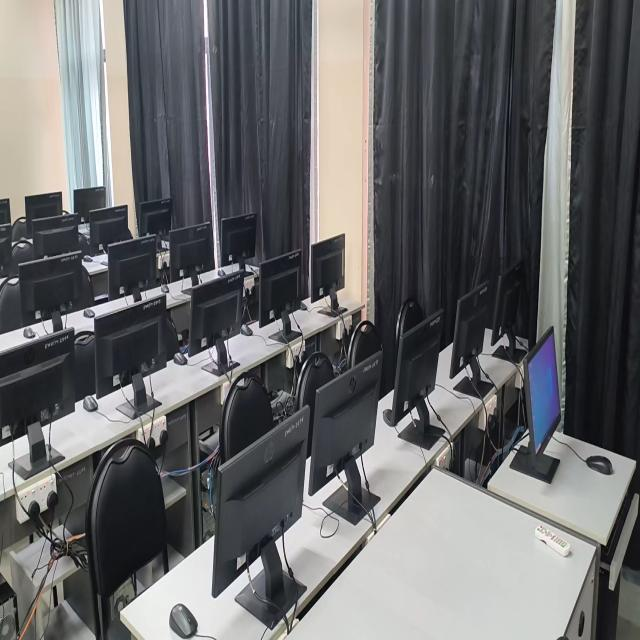Chair: (89, 436, 165, 605), (217, 358, 283, 448), (294, 346, 332, 396), (348, 316, 379, 362), (0, 271, 23, 332), (75, 330, 96, 391), (397, 289, 425, 332), (15, 236, 35, 266), (14, 216, 26, 237)
Monitor: (215, 404, 308, 615), (313, 350, 381, 530), (0, 330, 74, 469), (96, 296, 166, 432), (519, 322, 560, 473), (399, 313, 442, 449), (193, 278, 243, 377), (452, 282, 492, 401), (24, 248, 80, 323), (261, 248, 301, 335), (109, 236, 158, 305), (492, 263, 524, 364), (312, 229, 346, 311), (172, 220, 210, 285), (223, 215, 258, 272), (92, 202, 126, 256), (35, 215, 76, 258), (138, 200, 173, 237), (27, 190, 62, 224), (76, 185, 103, 214)
Mouse: (167, 603, 202, 640), (586, 449, 612, 478), (82, 393, 98, 416), (238, 323, 254, 339), (174, 353, 187, 371), (82, 306, 95, 318), (22, 326, 36, 337)
